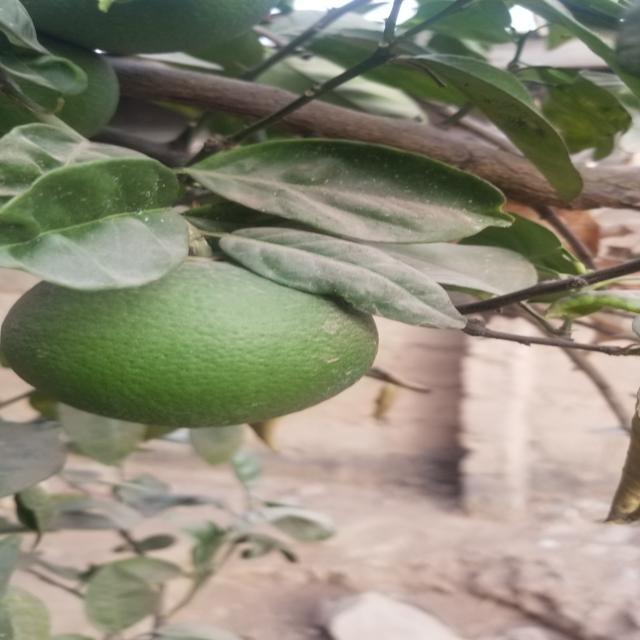Unripe: (16, 270, 379, 424)
